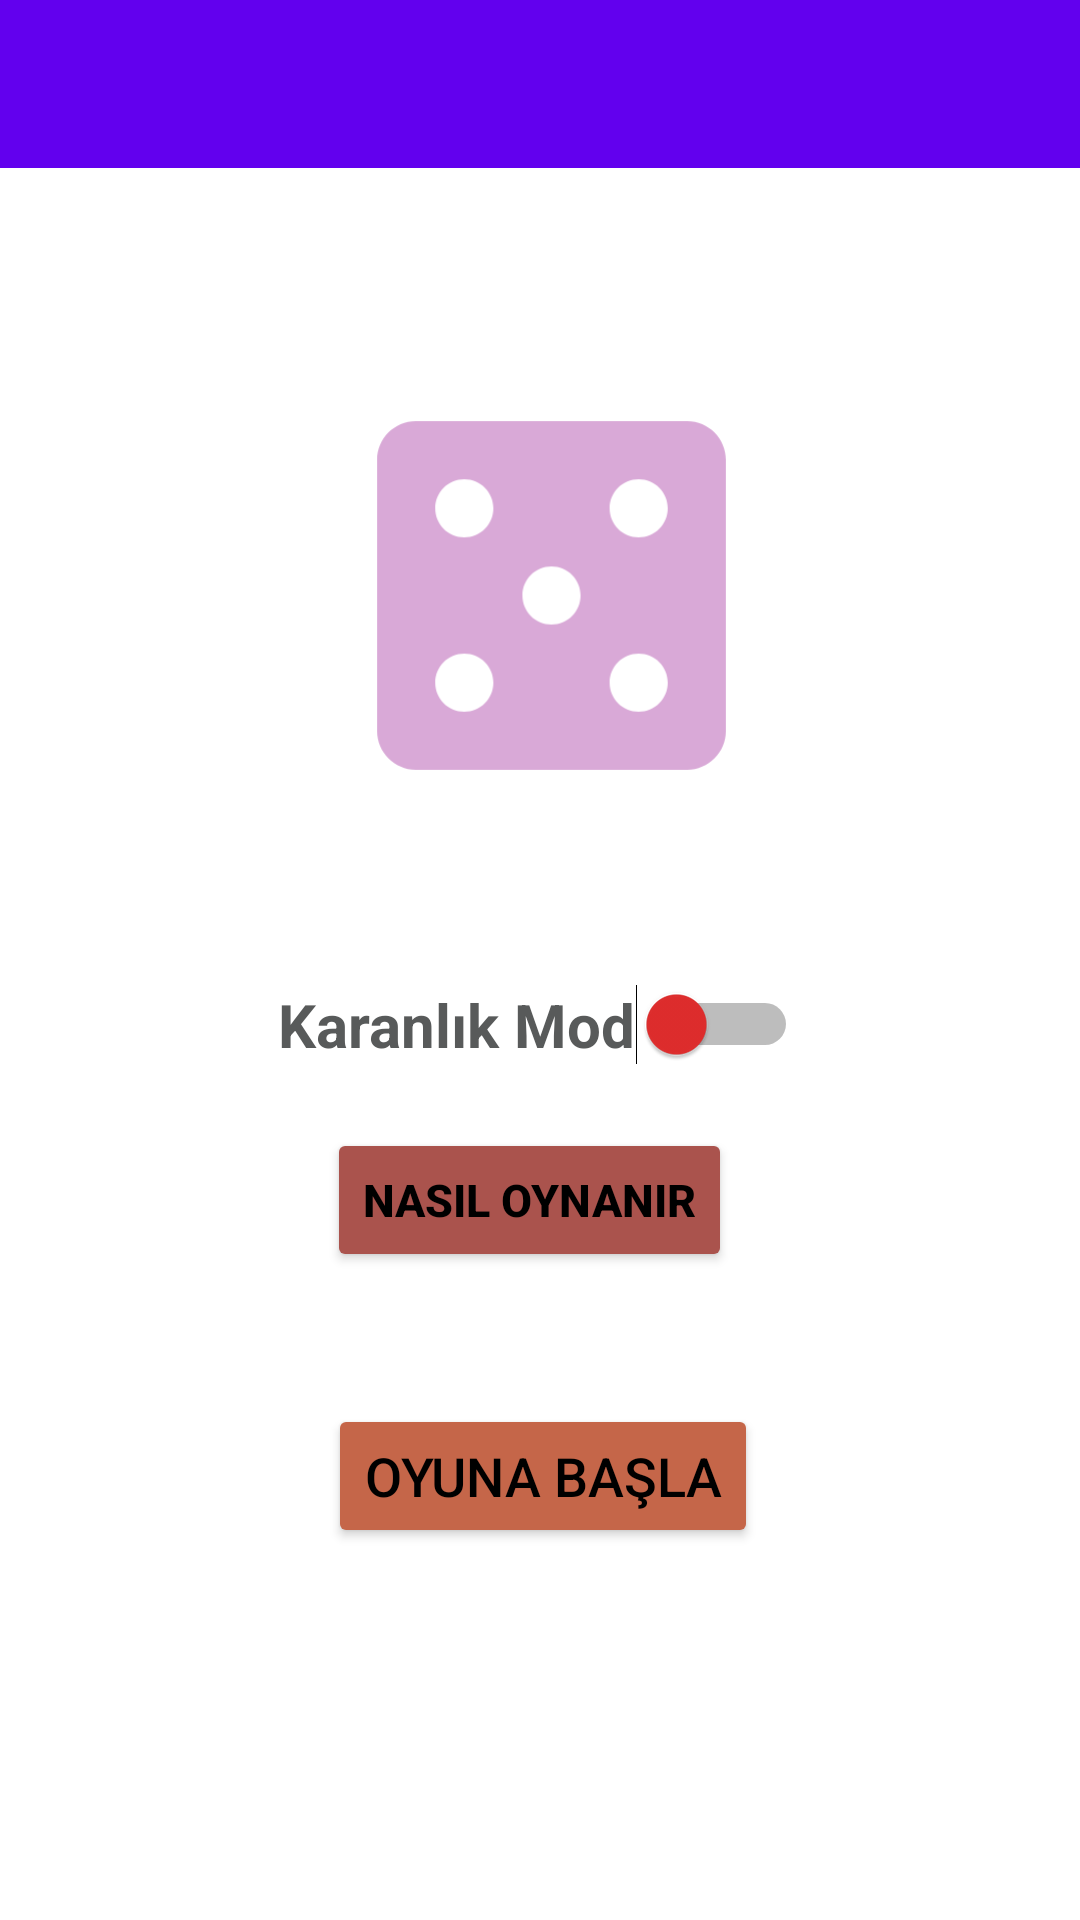

Point at icon controls on the screen. Image size 1080px x 1920px, points as (x,y).
zar resim: (551,595)
